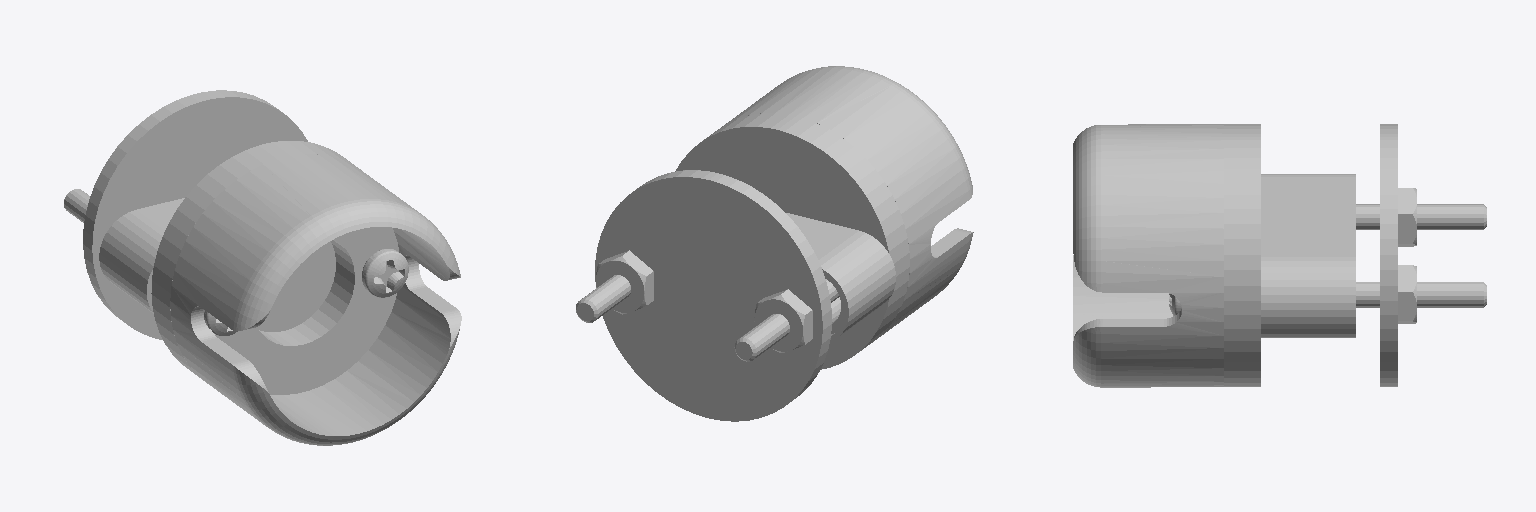
The model's file is caster.obj.
3 renders of one model, left to right at view 1: azimuth 30°, elevation 25°; view 2: azimuth 150°, elevation 25°; view 3: azimuth 270°, elevation 25°, orthographic.
Parts seen in each view (by area): view 1: Caster; view 2: Caster; view 3: Caster.
Boxes of the visible parts, <box> form: Caster: <box>64,90,461,445</box>; Caster: <box>576,66,973,421</box>; Caster: <box>1073,124,1486,387</box>.
Size of the model in its own units: 0.9122 by 0.876 by 1.38.